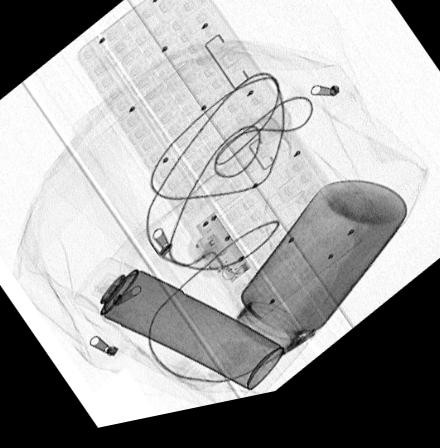Sprayer: (72, 262, 283, 401)
